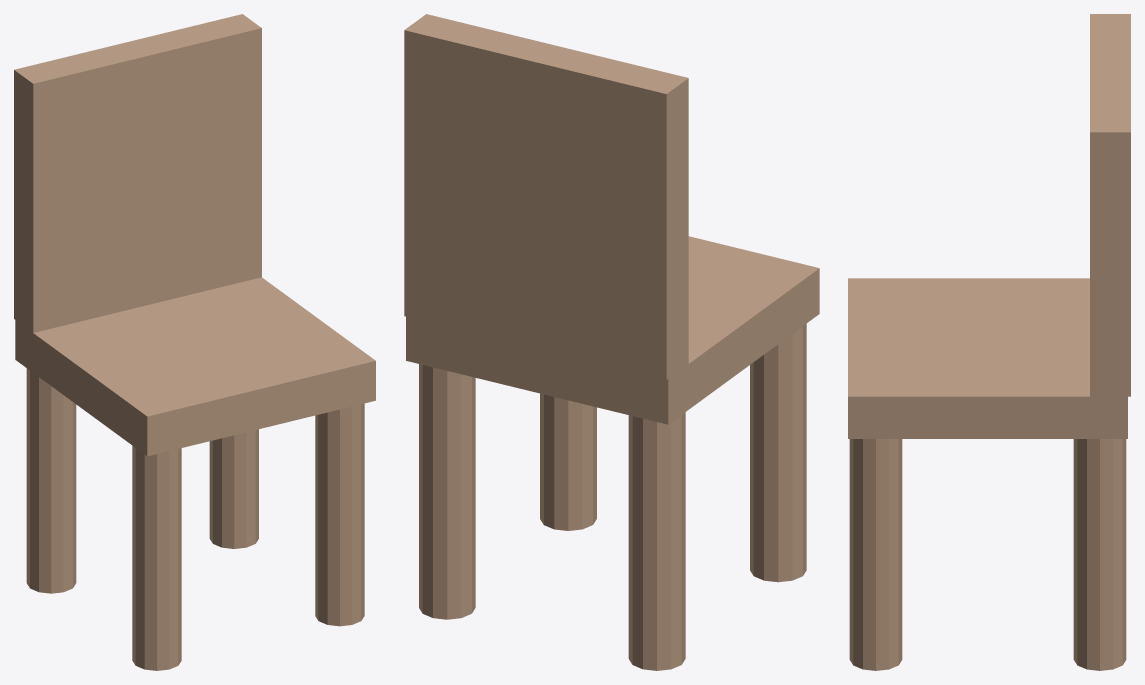
Rendered from chair.glb.
3 views of the same model, side by side, from view 1: azimuth 30°, elevation 25°; view 2: azimuth 150°, elevation 25°; view 3: azimuth 270°, elevation 25° (orthographic). The views are drawn at different scales.
Parts seen in each view (by area): view 1: chair_005, chair_000, chair_001, chair_003, chair_002, chair_004; view 2: chair_005, chair_000, chair_002, chair_004, chair_001, chair_003; view 3: chair_000, chair_005, chair_003, chair_004.
Boxes of the visible parts, bbox=[...] form: chair_005: bbox=[14, 14, 261, 332]; chair_000: bbox=[15, 277, 375, 456]; chair_001: bbox=[132, 445, 181, 670]; chair_003: bbox=[315, 403, 364, 626]; chair_002: bbox=[26, 368, 76, 593]; chair_004: bbox=[209, 429, 258, 548]; chair_005: bbox=[404, 14, 688, 379]; chair_000: bbox=[406, 236, 819, 424]; chair_002: bbox=[628, 412, 685, 670]; chair_004: bbox=[419, 364, 475, 619]; chair_001: bbox=[750, 323, 806, 582]; chair_003: bbox=[540, 393, 596, 530]; chair_000: bbox=[848, 278, 1127, 438]; chair_005: bbox=[1090, 14, 1130, 396]; chair_003: bbox=[849, 439, 902, 670]; chair_004: bbox=[1073, 439, 1126, 670].
Bounding box in the file's own units: 0.48 × 1.02 × 0.485.
